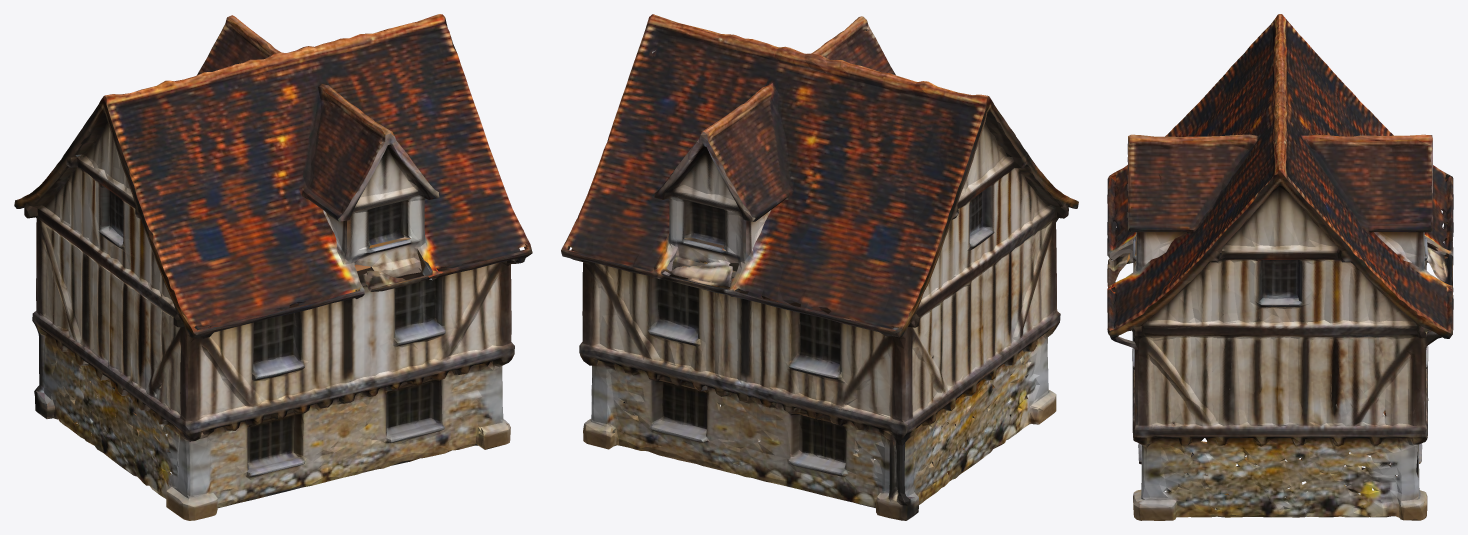
Rendered from mdl_house_001.glb.
3 renders of one model, left to right at view 1: azimuth 30°, elevation 25°; view 2: azimuth 150°, elevation 25°; view 3: azimuth 270°, elevation 25°, orthographic. The views are drawn at different scales.
Visible parts, largest first — view 1: tmpfzfmjiqk.ply; view 2: tmpfzfmjiqk.ply; view 3: tmpfzfmjiqk.ply.
Part boxes in pixels (x1,y1,x2,y2): tmpfzfmjiqk.ply: (14, 14, 532, 520); tmpfzfmjiqk.ply: (561, 14, 1078, 520); tmpfzfmjiqk.ply: (1107, 14, 1453, 520).
Size of the model in its own units: 0.967 by 0.9881 by 0.8773.
1 material, 1 textured.
